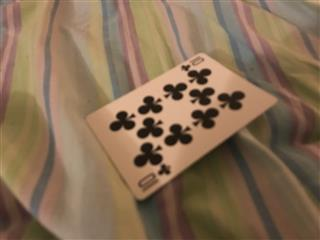TenOfClubs: (83, 51, 278, 201)
